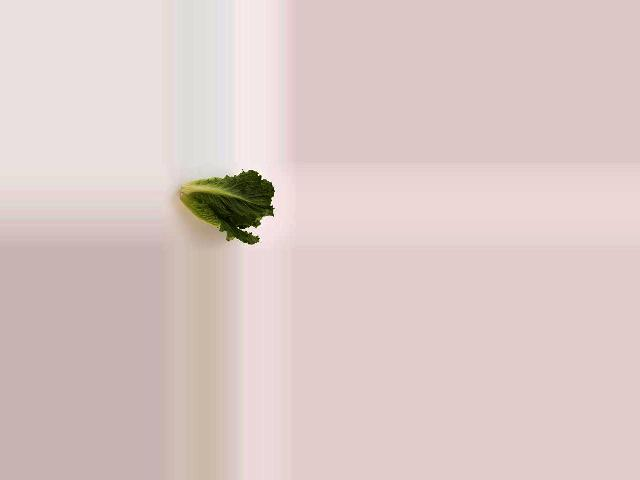lettuce: (168, 168, 277, 240)
